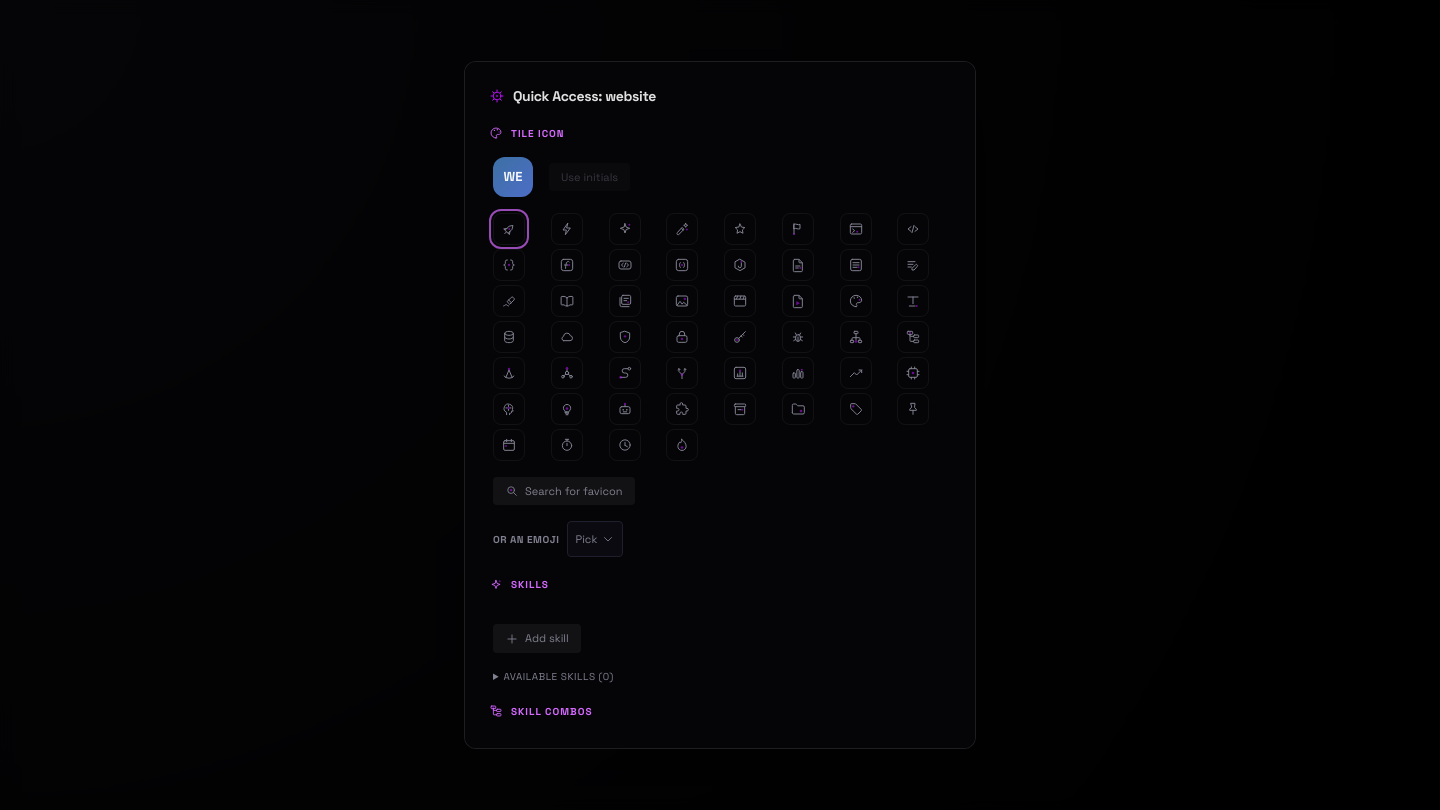
it: QuickAccessSettingsDialog › emoji picker › filters the palette by keyword
Click the button with test id "quick-access-icon-emoji" at (596, 539), box [568, 521, 624, 557]
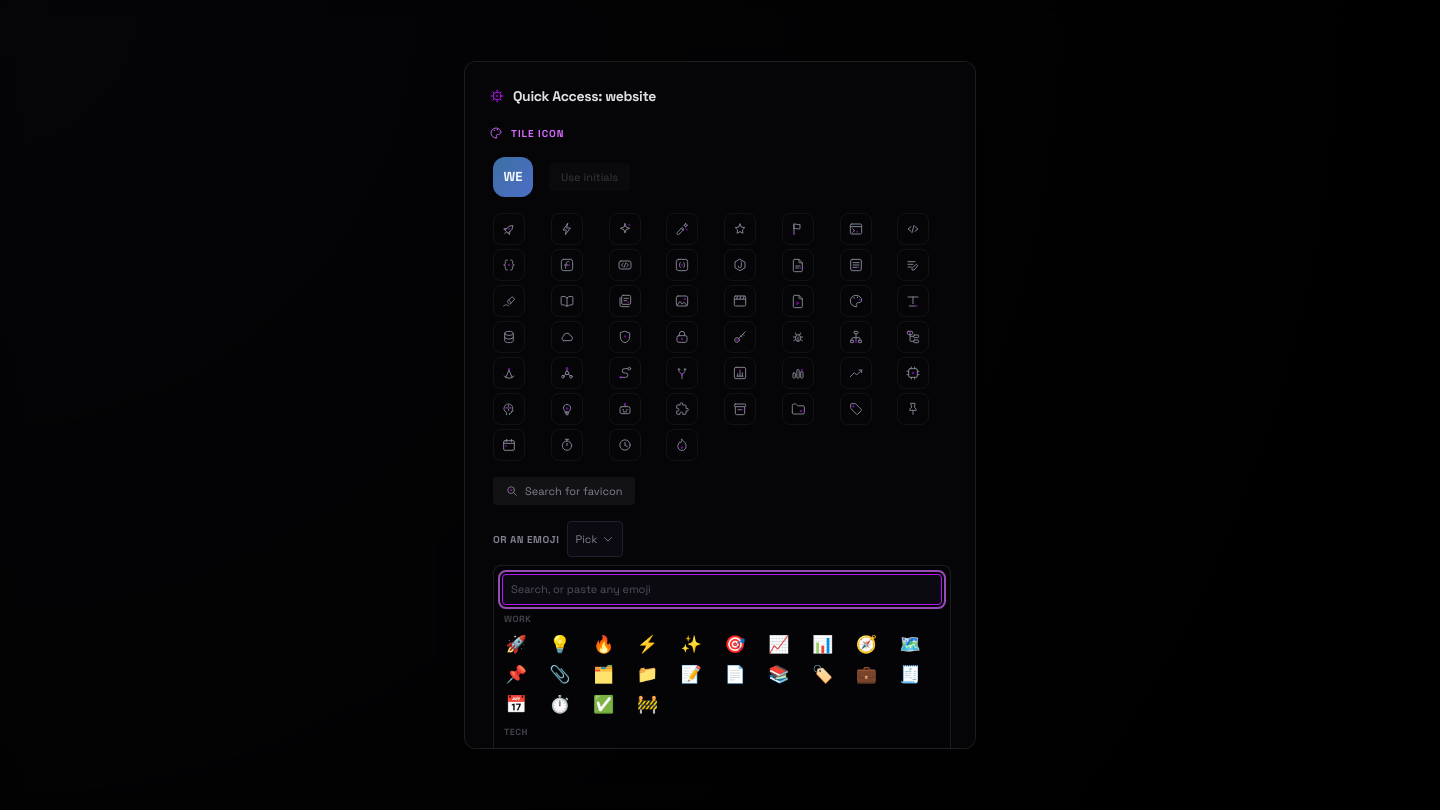
Type "bug" into the field with test id "quick-access-emoji-search" at (722, 590), box [502, 574, 942, 605]
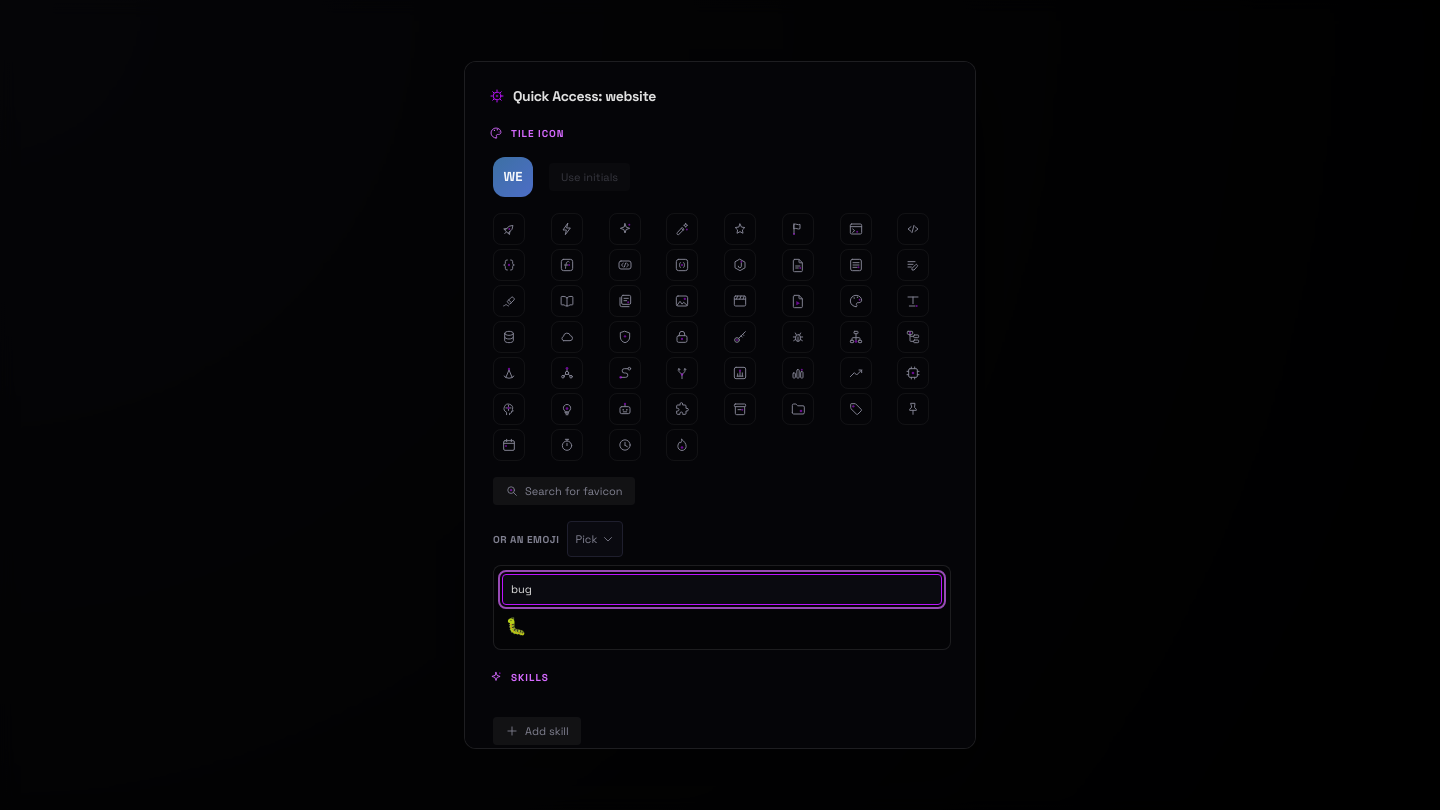
expect the button named "bug" is shown: met, box [502, 613, 530, 641]
expect the button "rocket" is gone: met
